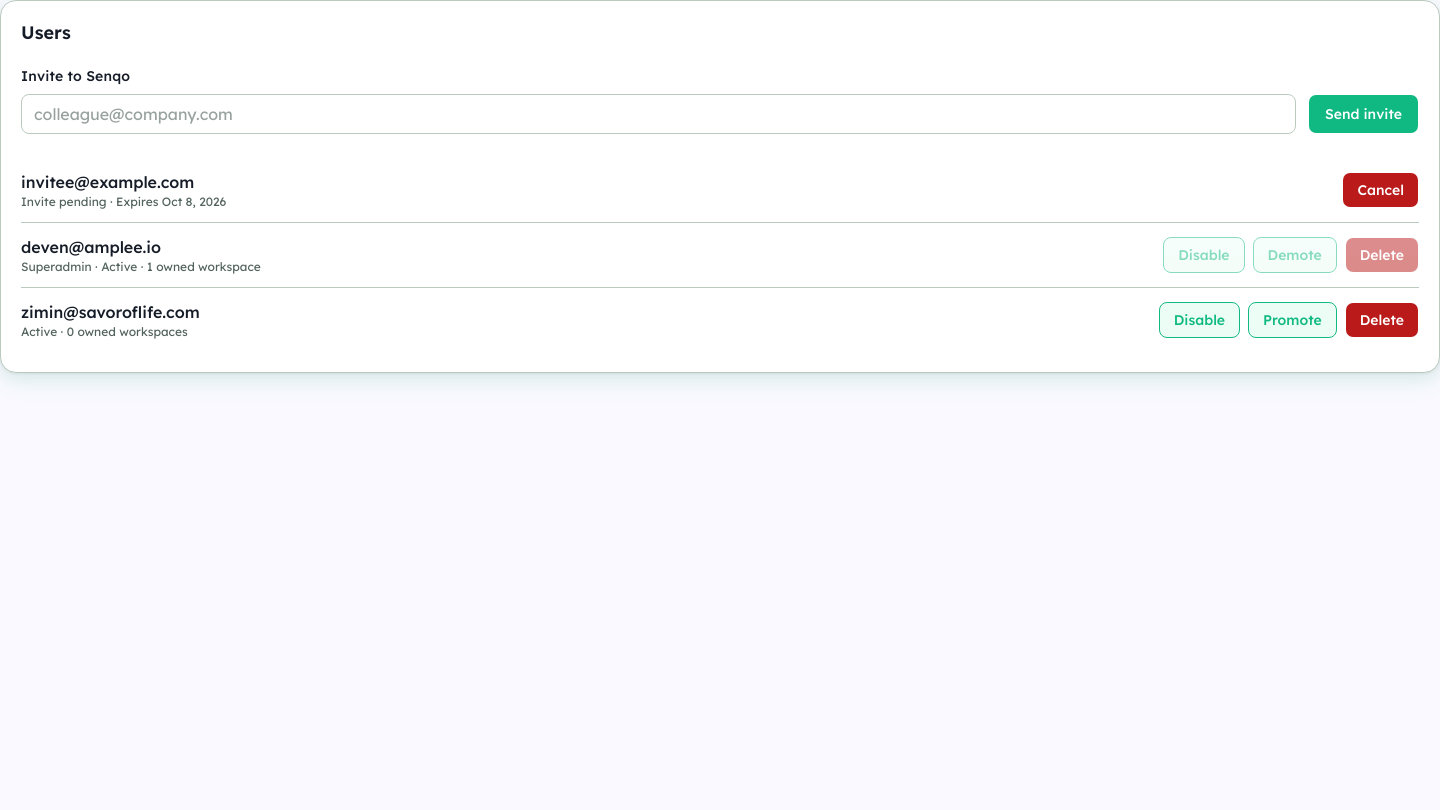
Scenario: InstanceAdminUsersSection confirmations › InstanceAdminUsersSection → revokes a pending invite after dialog confirmation
Click the button "Cancel" at (1381, 190), box x1=1342 y1=172 x2=1419 y2=208
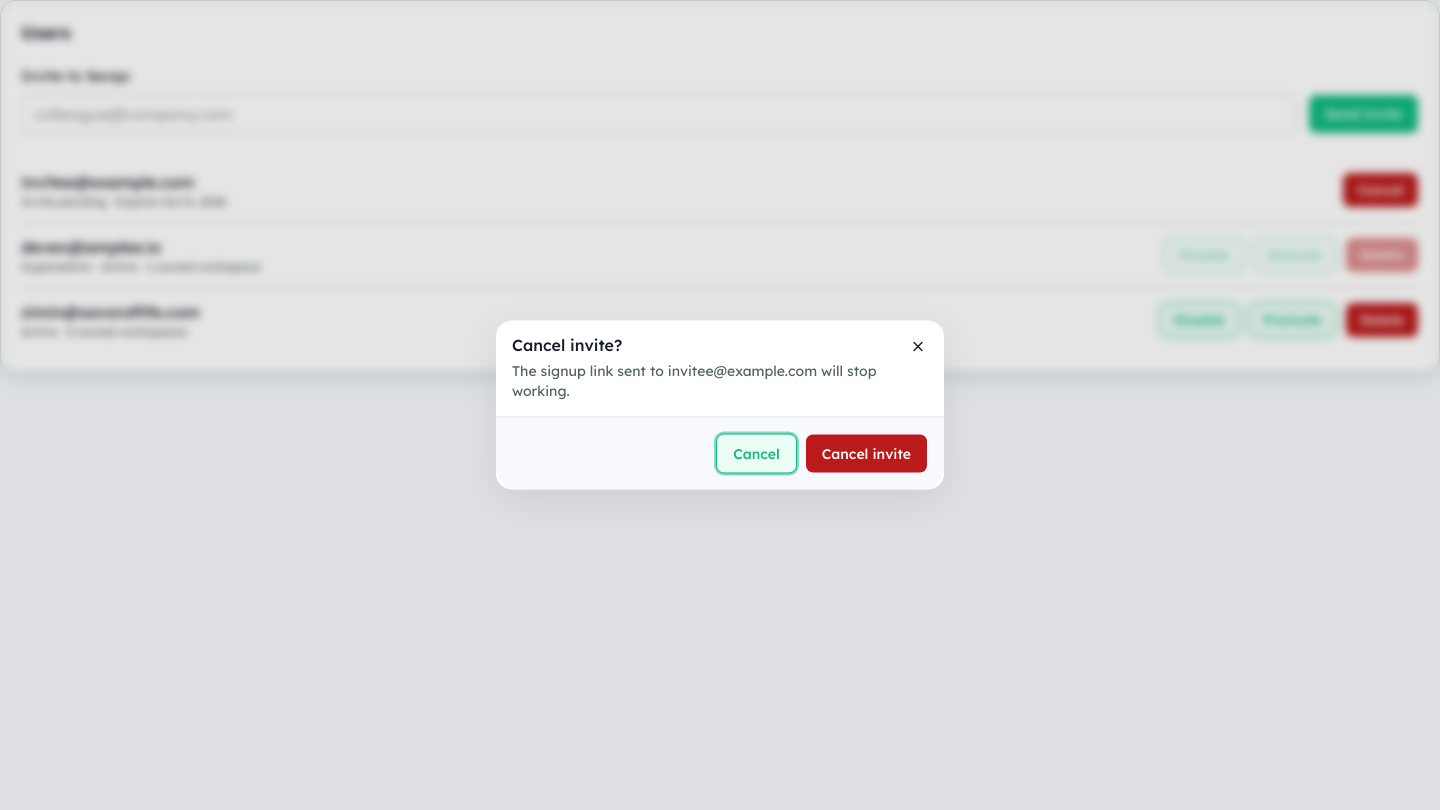
Now the text "signup link sent to invitee@example.com" is shown, box x1=512 y1=362 x2=876 y2=400
Click the button "Cancel invite" at (866, 454), box x1=805 y1=434 x2=928 y2=474
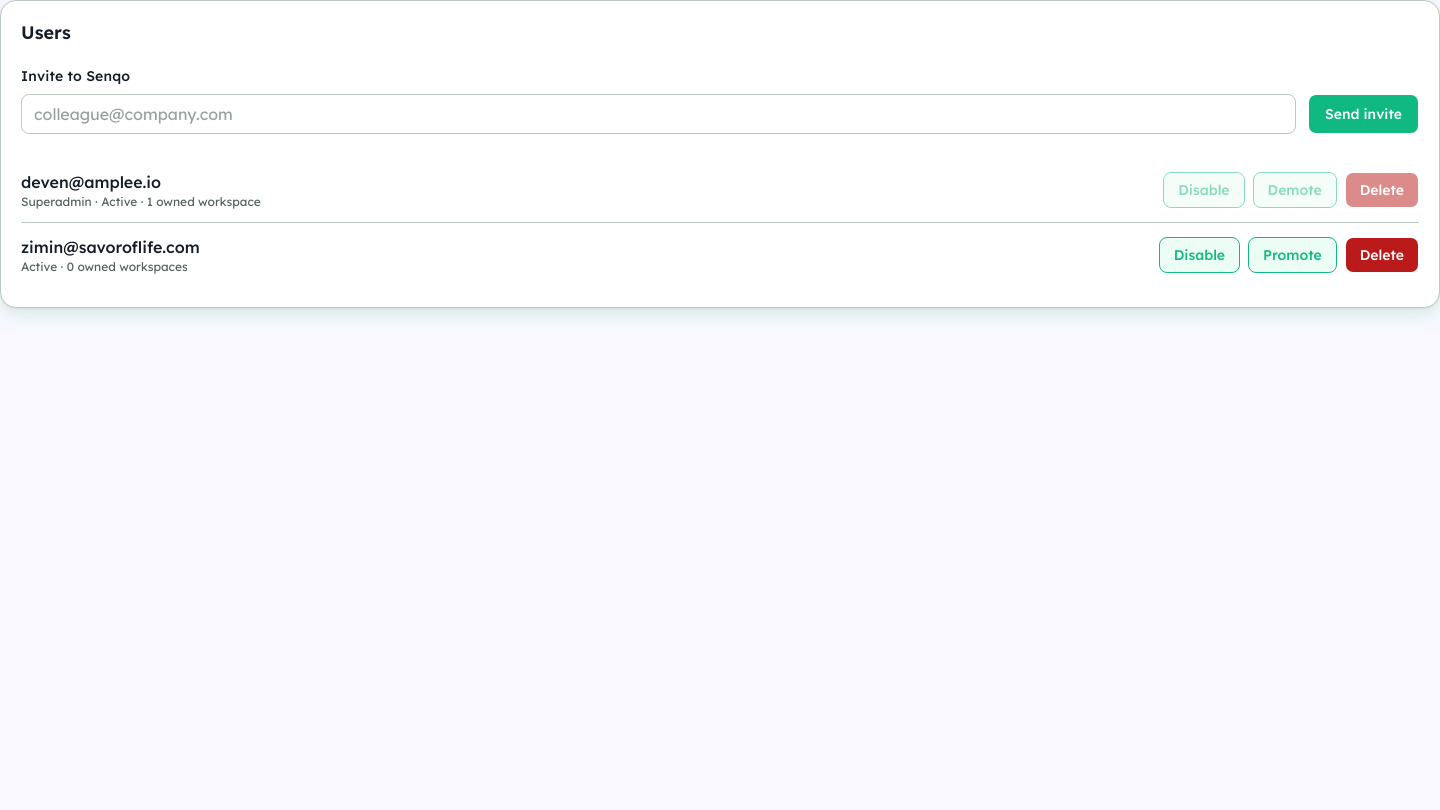
Now the text "invitee@example.com" is gone
